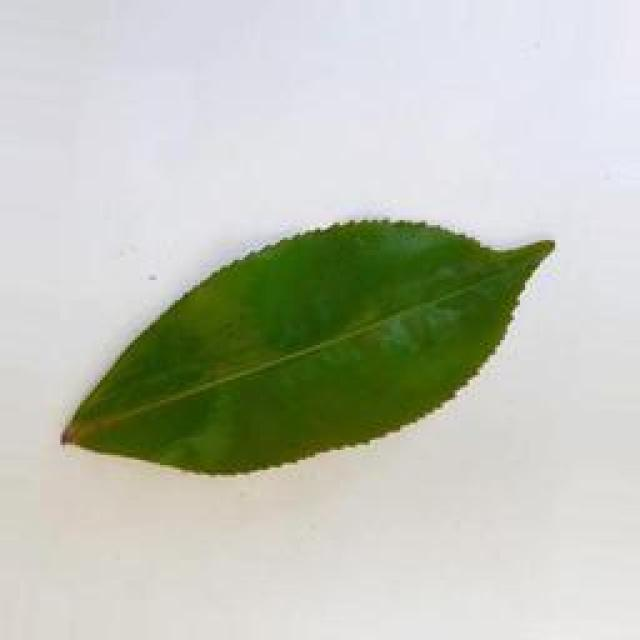Healthy: (59, 216, 562, 477)
